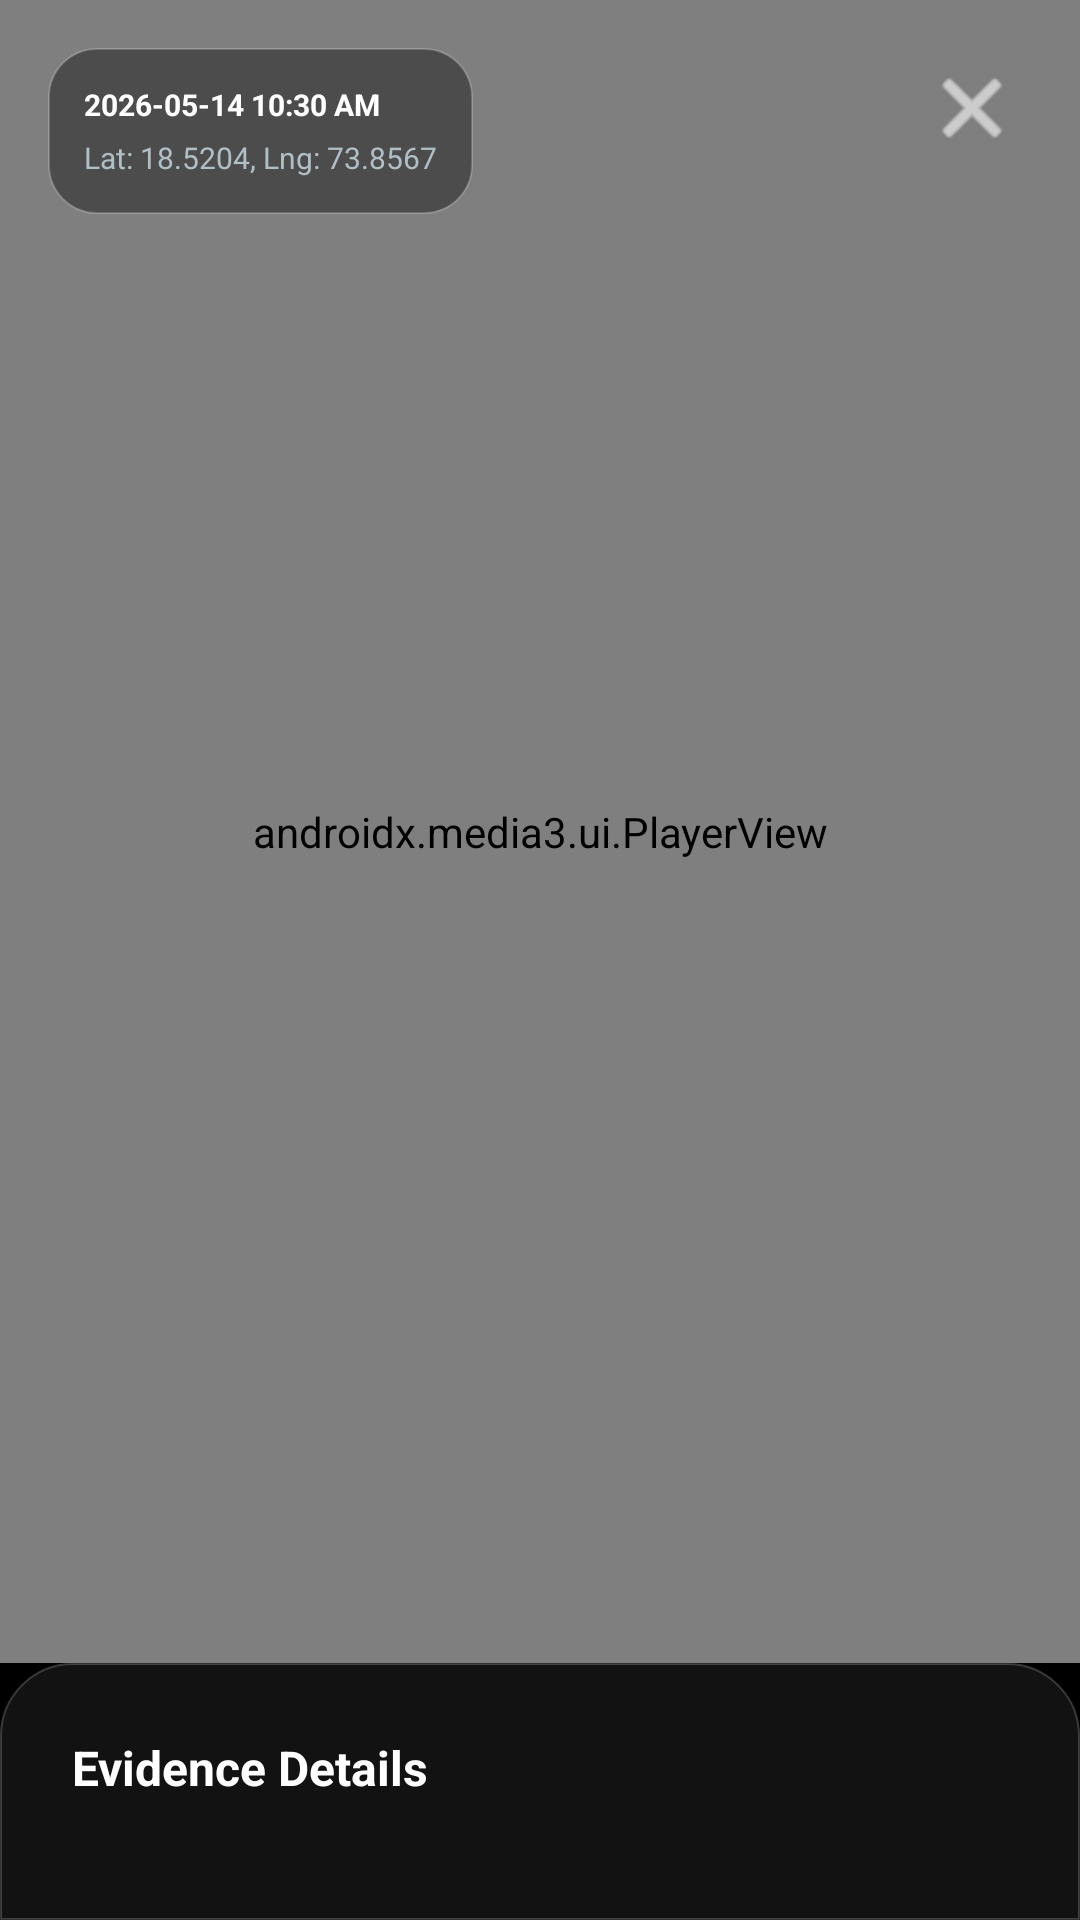

Icon bounding boxes for this 1080x1920 phone screenshot, format (x1, y1, x2, y2):
close clear cancel: (942, 78, 1002, 138)
